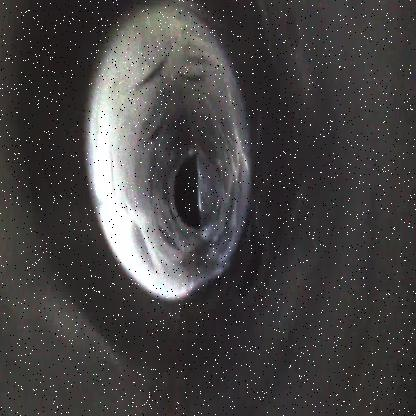Crack: (85, 12, 254, 302)
